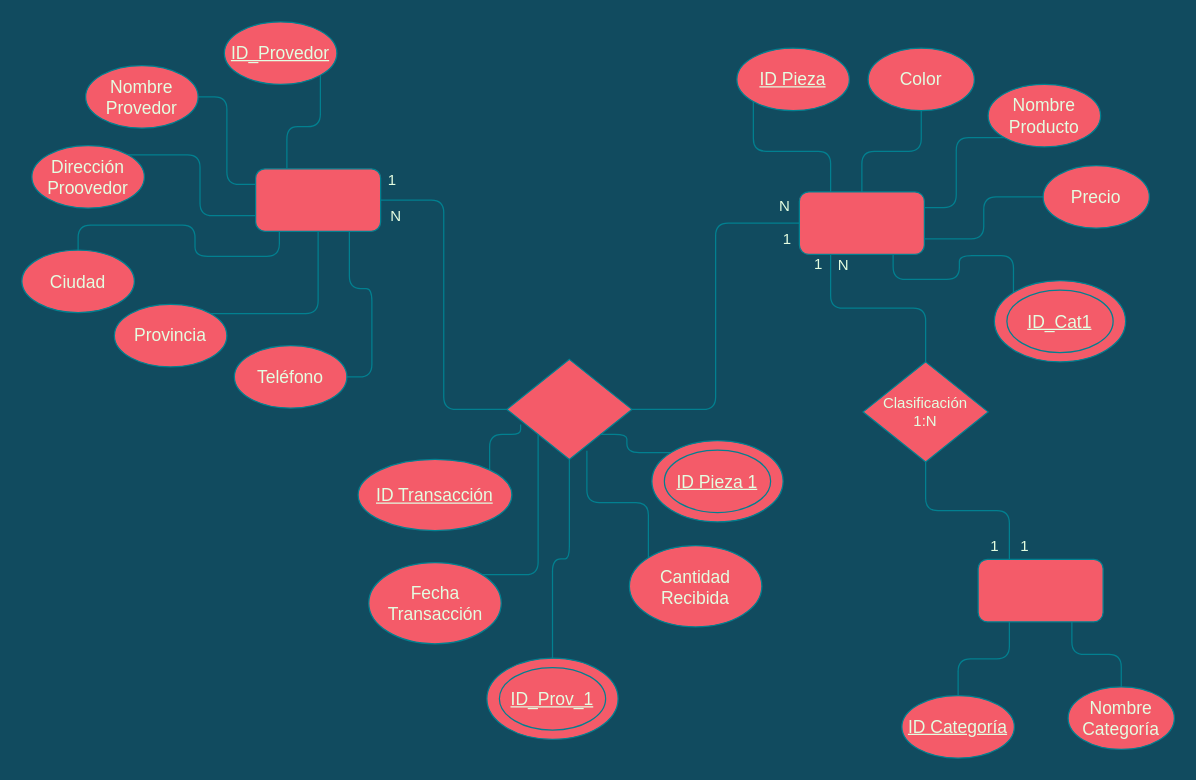
Some shapes in this 1196 by 780 pixel diagram are drawn without their labels. Each missing label, with the centre of its shape:
"Categorías" belongs at (x=1040, y=590).
"Entregas N:M" belongs at (x=569, y=408).
"Piezas" belongs at (x=861, y=222).
"Proveedores" belongs at (x=317, y=199).
